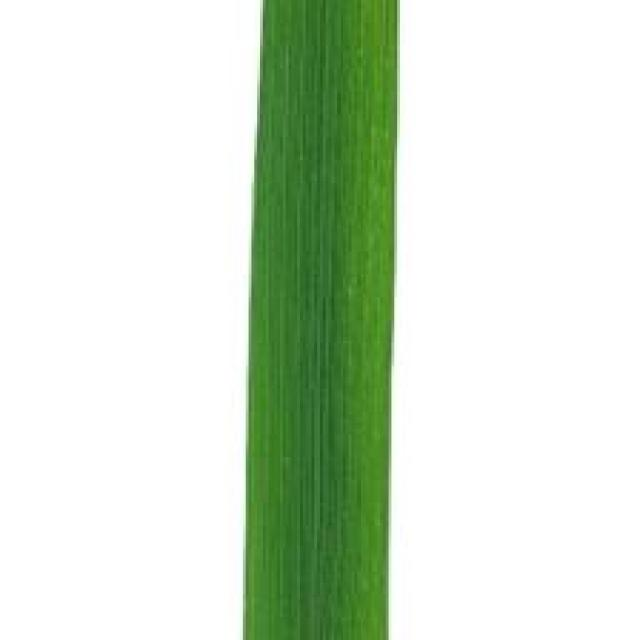Rice___Healthy_Rice_Plant: (243, 1, 398, 637)
